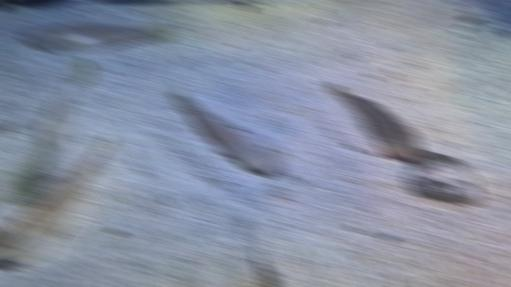Fish: (0, 133, 114, 262), (175, 85, 284, 172), (0, 57, 92, 156), (330, 84, 423, 160), (21, 23, 172, 53), (254, 249, 279, 286)
